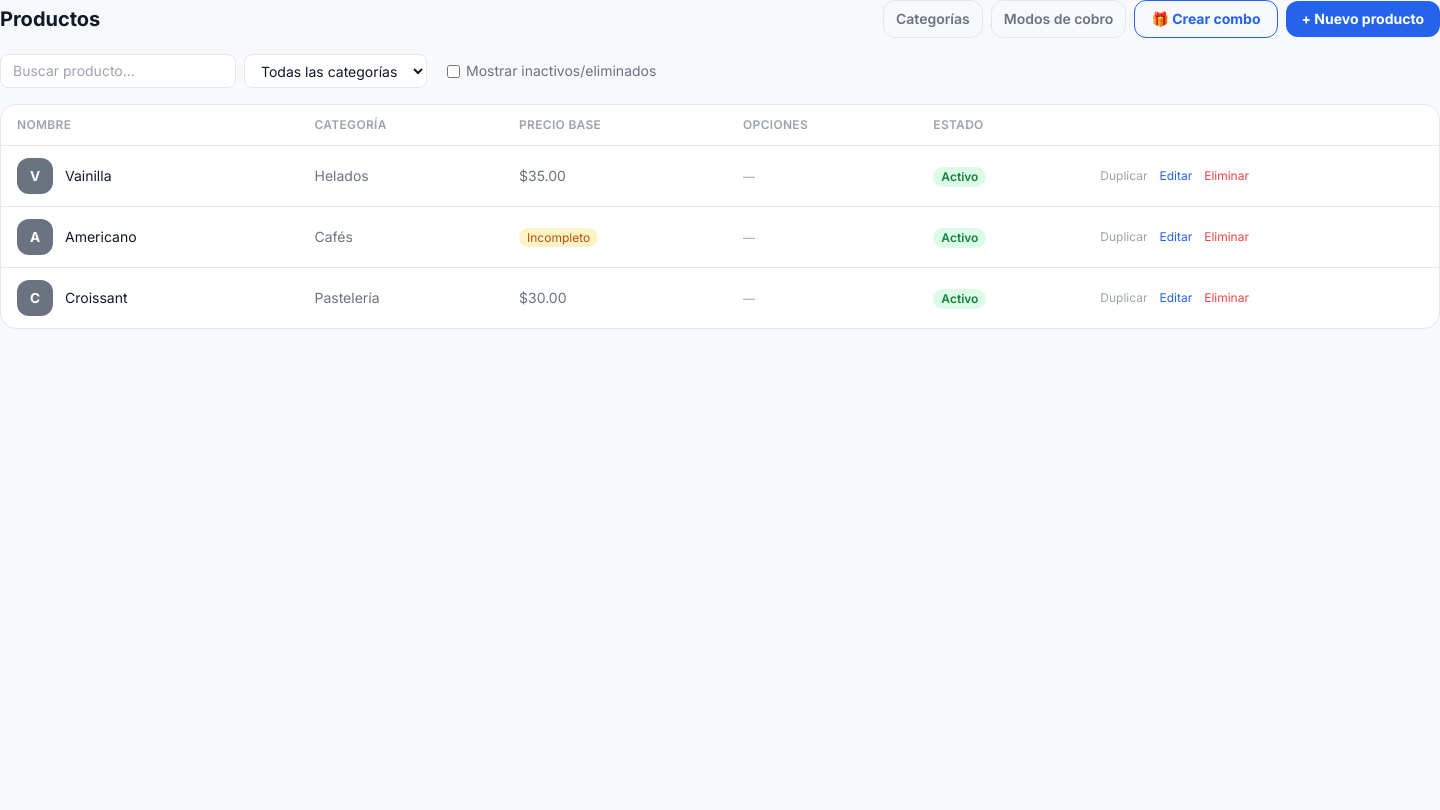
Test: ProductsPage › warns when unchecking Requerido on a group with priced options
Click the button "+ Nuevo producto" at (1363, 19), box [1286,1,1439,37]
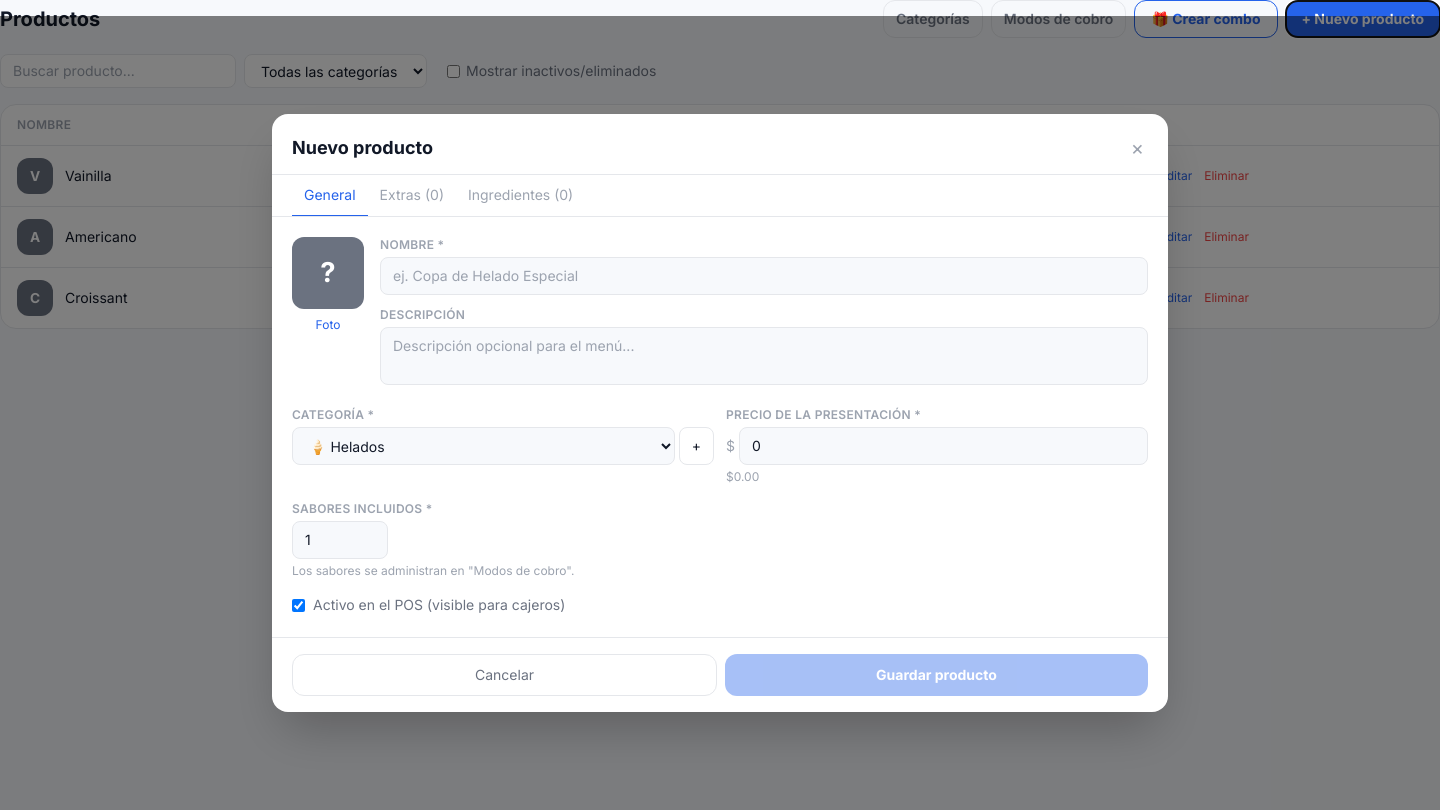
Click the button "Extras (0)" at (412, 196), box [368,175,456,217]
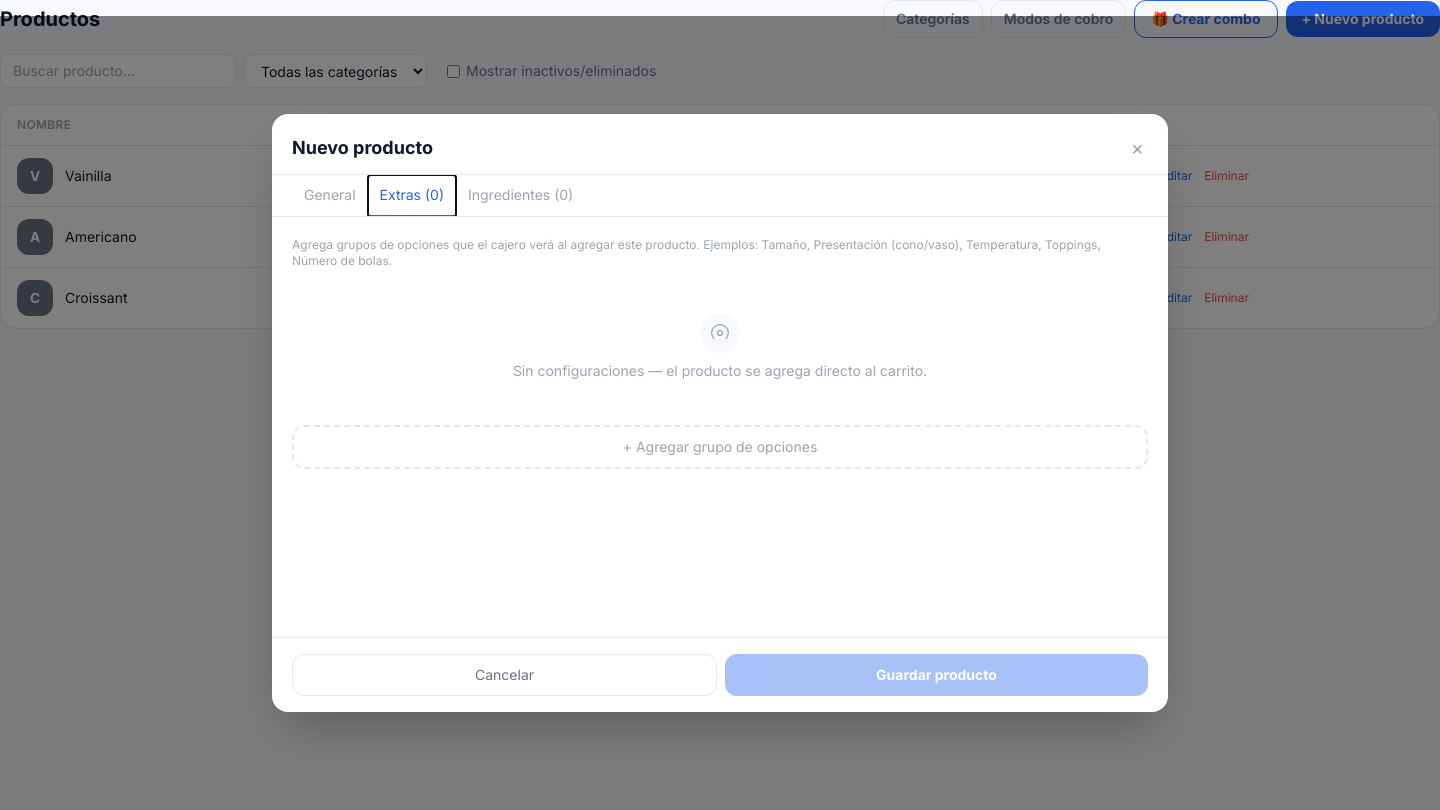
Click the button "+ Agregar grupo de opciones" at (720, 447), box [292,425,1148,469]
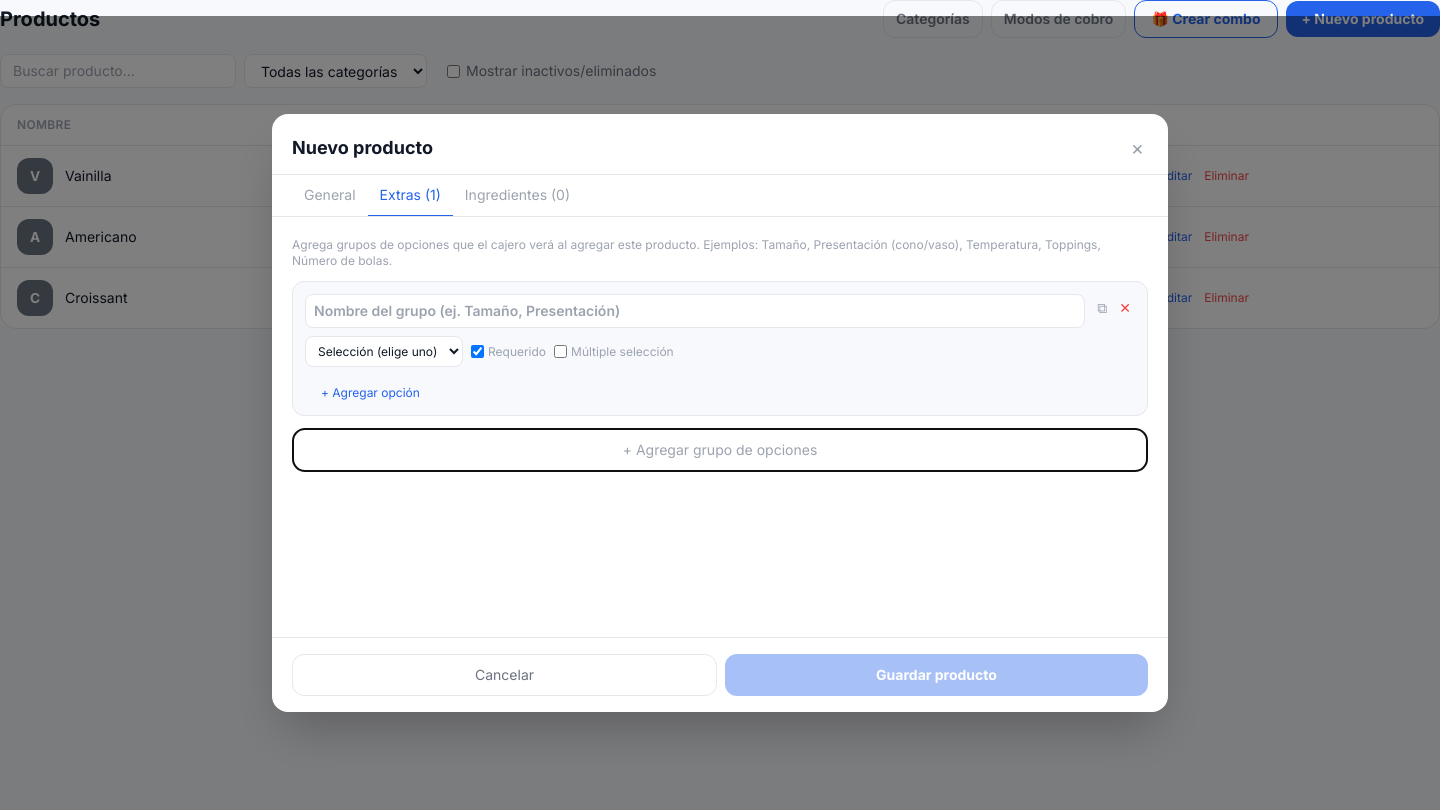
Click the button "+ Agregar opción" at (362, 393), box [305,385,420,401]
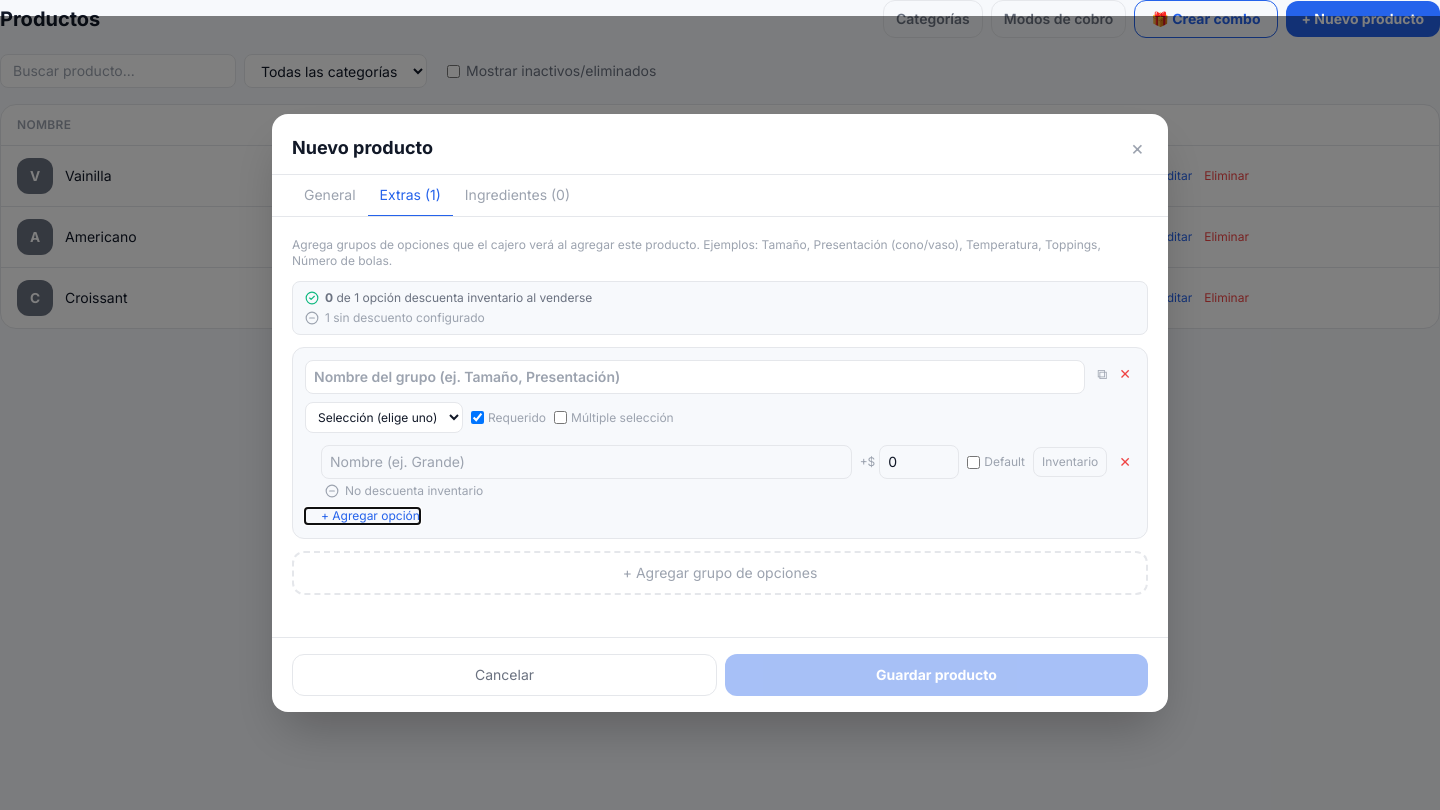
Type "10" into the number field with placeholder "0.00" at (919, 462), box [879,445,959,479]
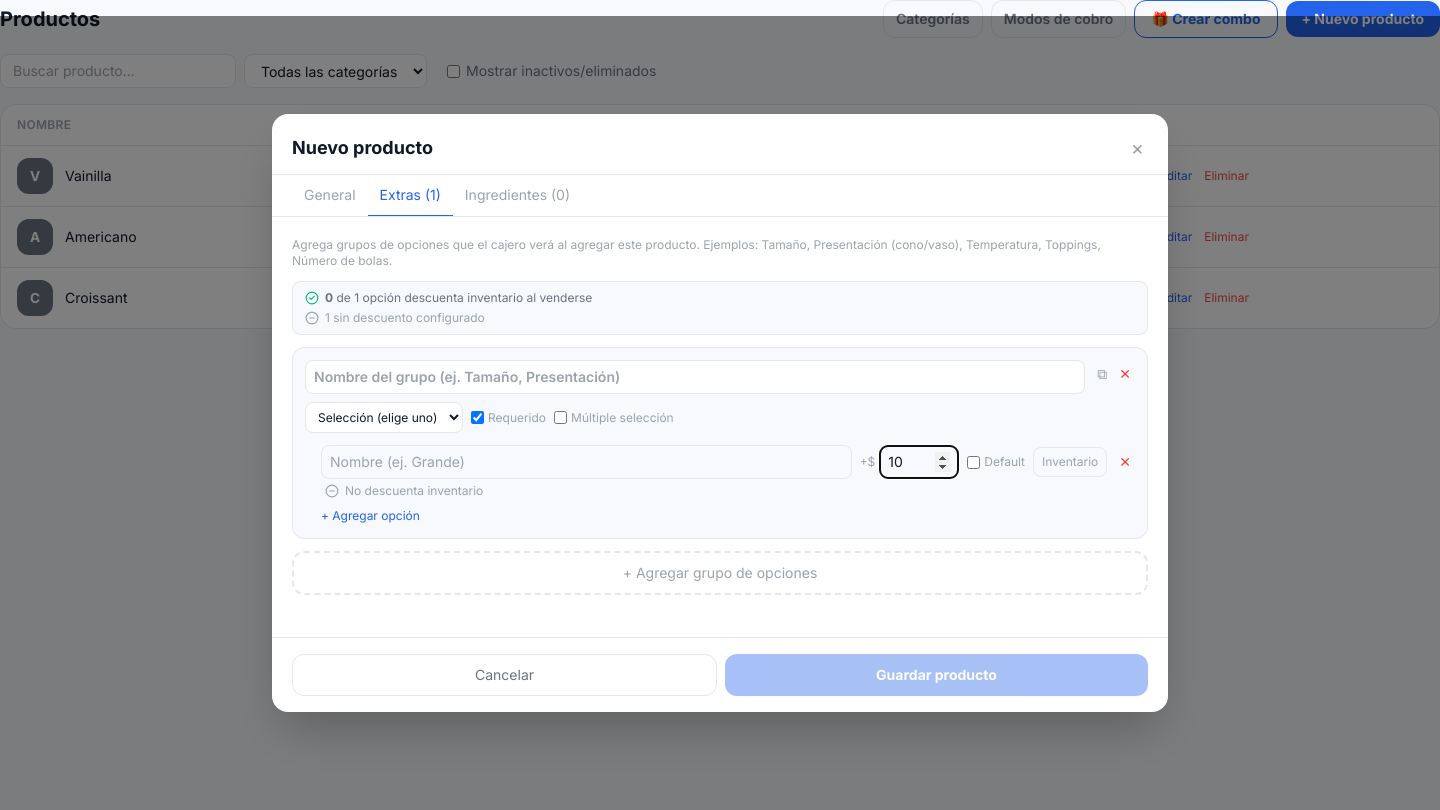
Click the checkbox labelled "Requerido" at (478, 418), box [471,411,484,424]
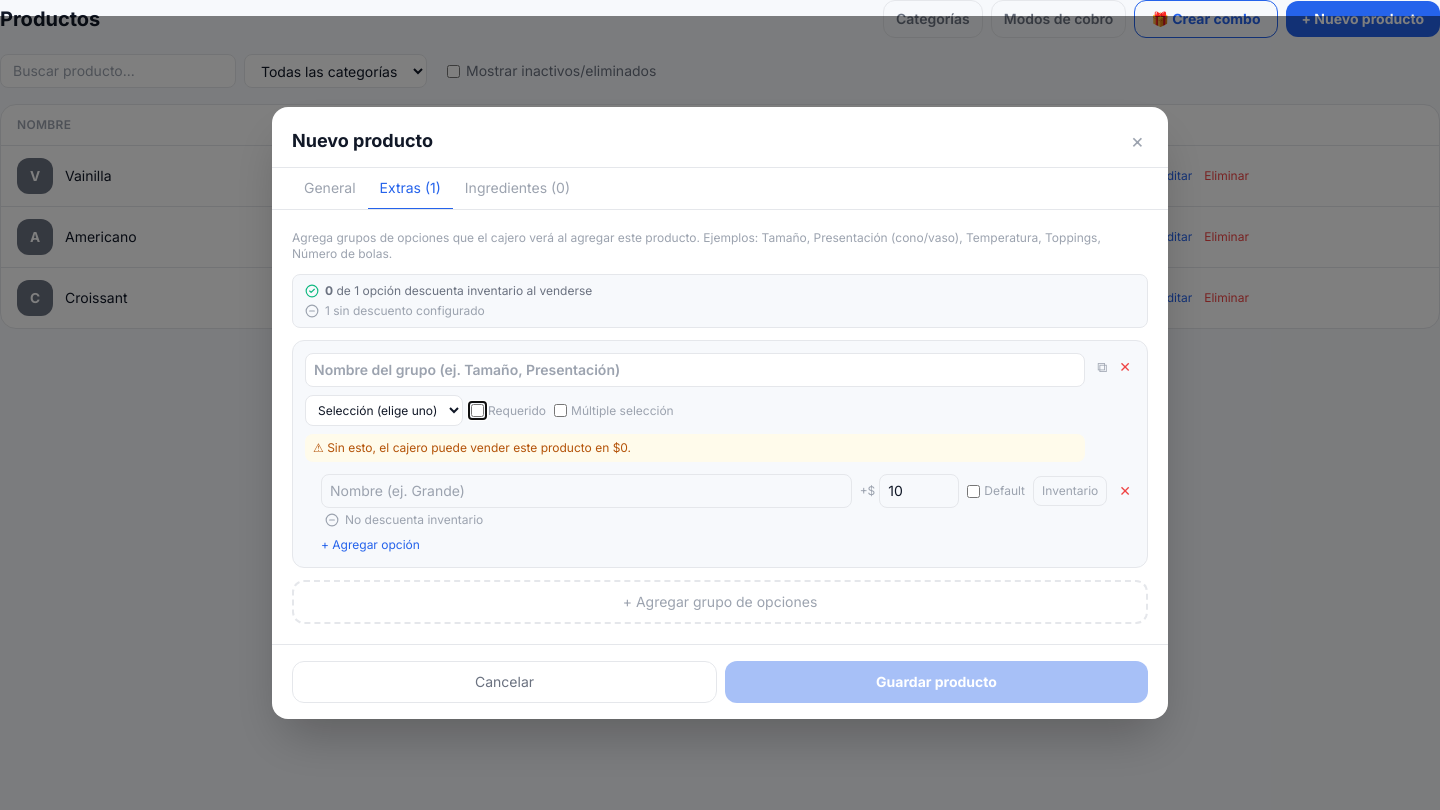
Result: the text "⚠ Sin esto, el cajero puede vender este producto en $0." is shown at [305,434,1085,462]
